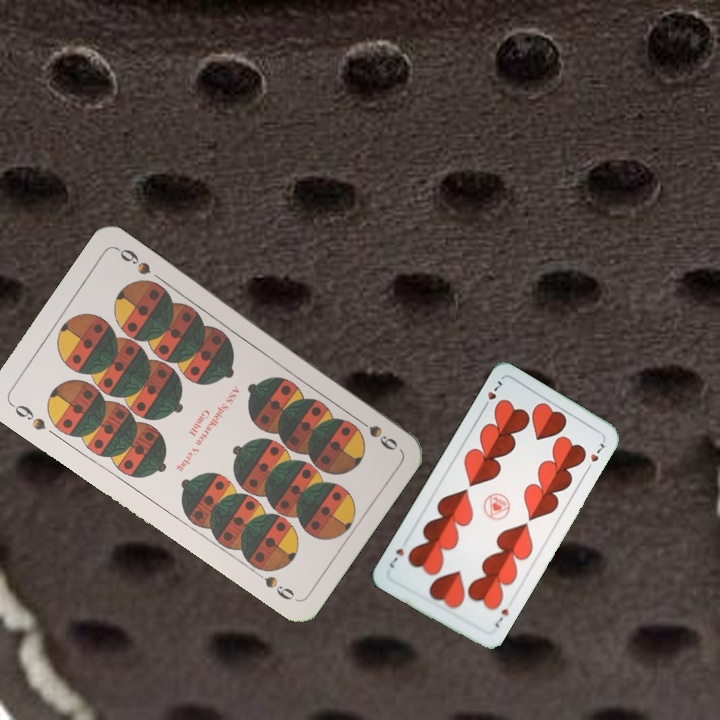H7: (478, 376, 505, 412), (490, 605, 511, 631)
S9: (349, 412, 401, 453), (6, 398, 48, 433)
